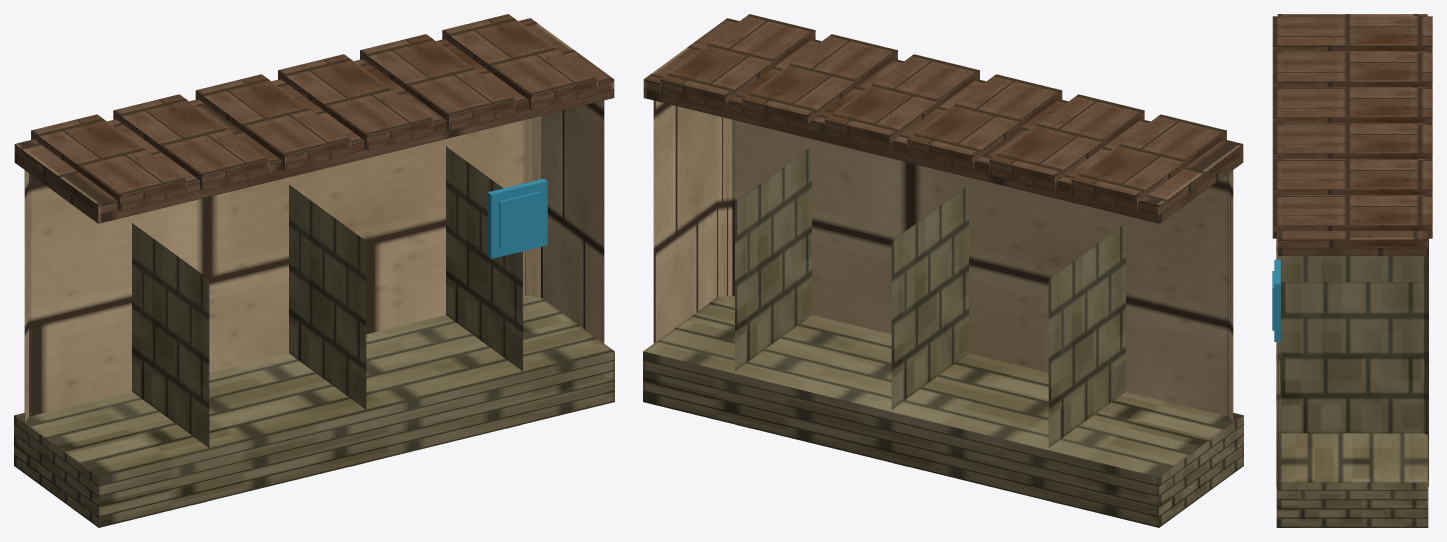
Rendered from edificio-wall-e1-CrJOLJ98.glb.
The picture shows the model from 3 angles, left to right: view 1: azimuth 30°, elevation 25°; view 2: azimuth 150°, elevation 25°; view 3: azimuth 270°, elevation 25°; orthographic projection. The views are drawn at different scales.
Visible parts, largest first — view 1: wall_body, team_color; view 2: wall_body; view 3: wall_body, team_color.
Boxes of the visible parts, x1,y1,x2,y2 form: wall_body: [14, 14, 614, 527]; team_color: [487, 178, 547, 258]; wall_body: [643, 14, 1243, 527]; wall_body: [1272, 14, 1432, 527]; team_color: [1272, 259, 1280, 341].
Size of the model in its own units: 32 by 19.5 by 9.61.
2 materials, 1 textured.
